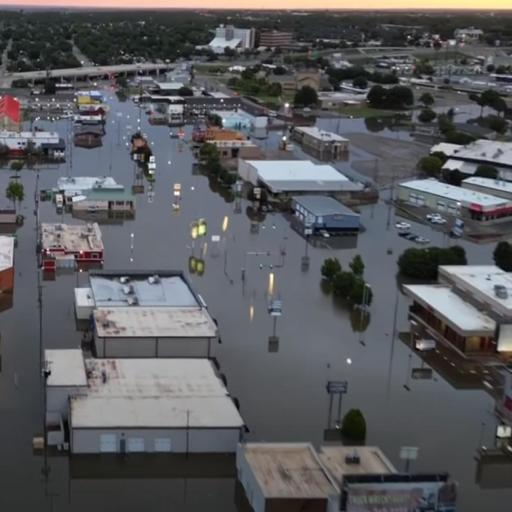flood: (0, 93, 511, 511), (316, 113, 445, 144), (454, 101, 502, 139), (213, 108, 268, 140), (273, 118, 285, 127)
house: (40, 348, 246, 460), (76, 267, 220, 356), (401, 262, 512, 370), (234, 440, 344, 512), (396, 179, 512, 233), (241, 157, 356, 202), (320, 445, 404, 493), (57, 176, 137, 218), (41, 219, 105, 265), (289, 194, 361, 234), (294, 122, 352, 157), (195, 129, 260, 160), (0, 132, 67, 162), (213, 26, 255, 51), (0, 93, 22, 132), (186, 98, 241, 110), (160, 95, 184, 118), (260, 30, 291, 46)
